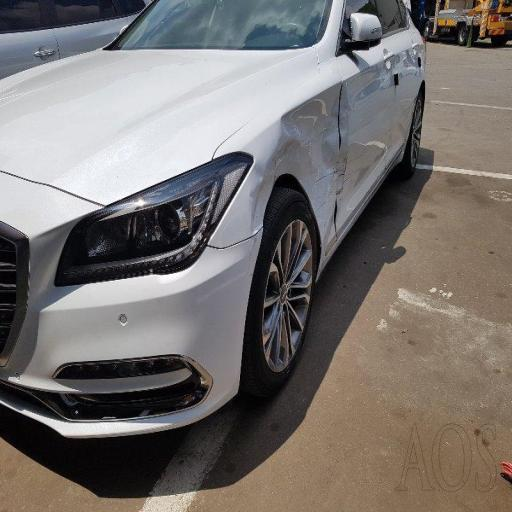dent: (245, 92, 400, 193)
